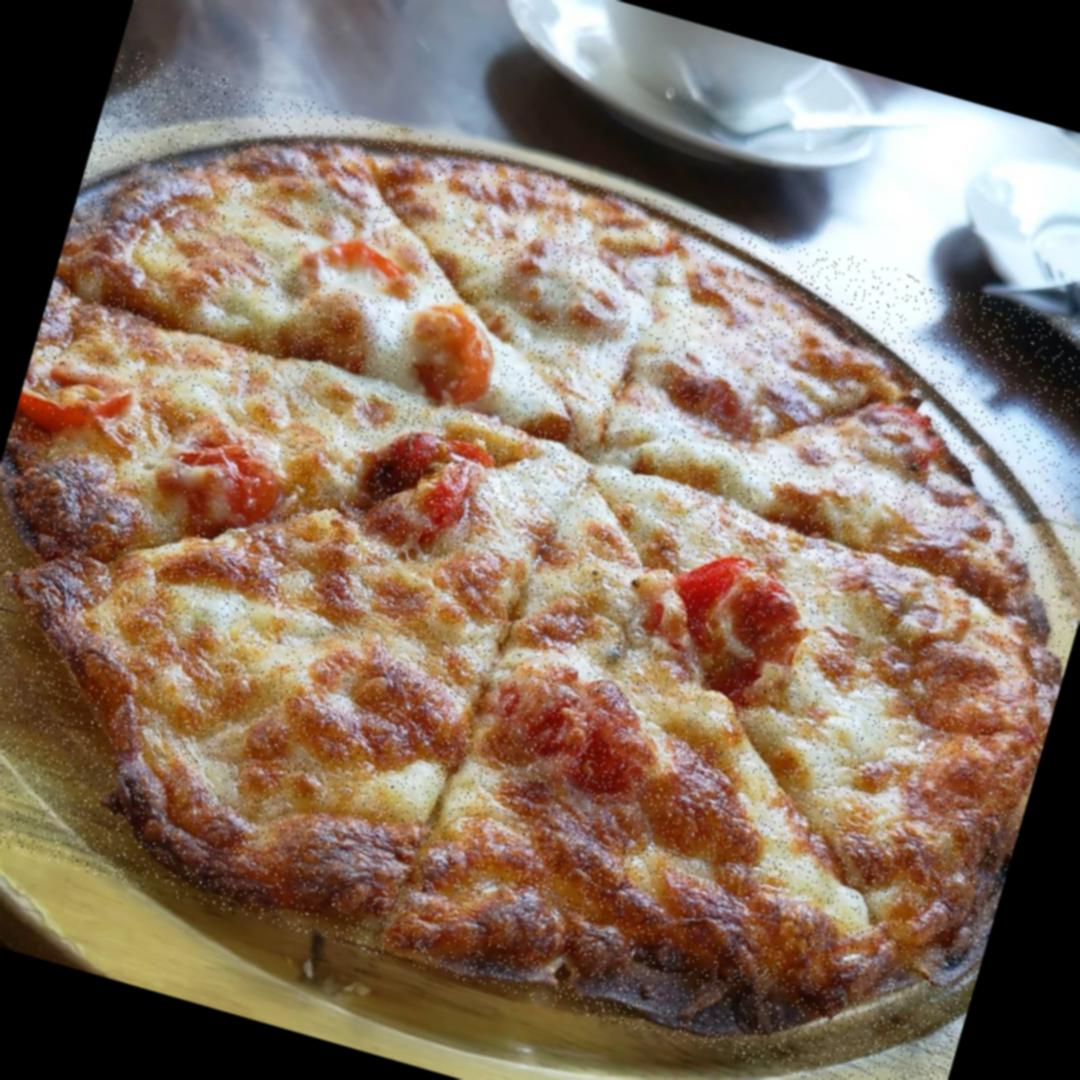Pizza: (0, 46, 1080, 1080)
Tomatoes: (644, 533, 820, 715), (342, 412, 510, 570), (152, 427, 294, 540), (396, 297, 512, 414), (12, 359, 140, 454), (298, 226, 414, 304)
